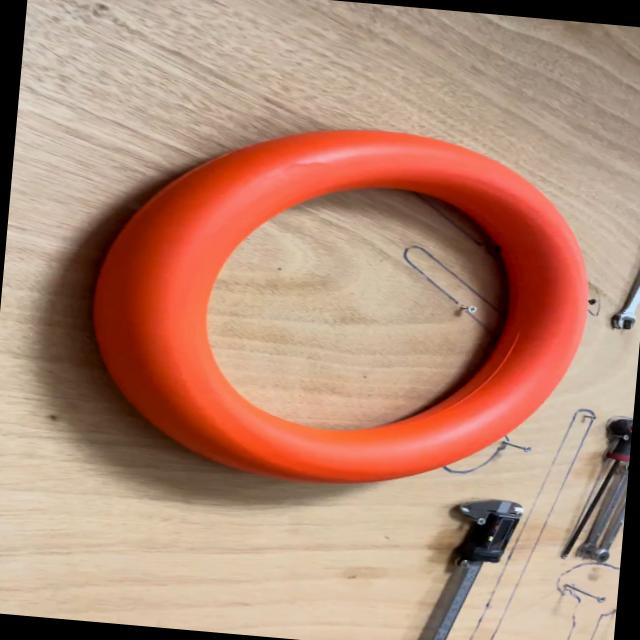note: (76, 104, 604, 507)
